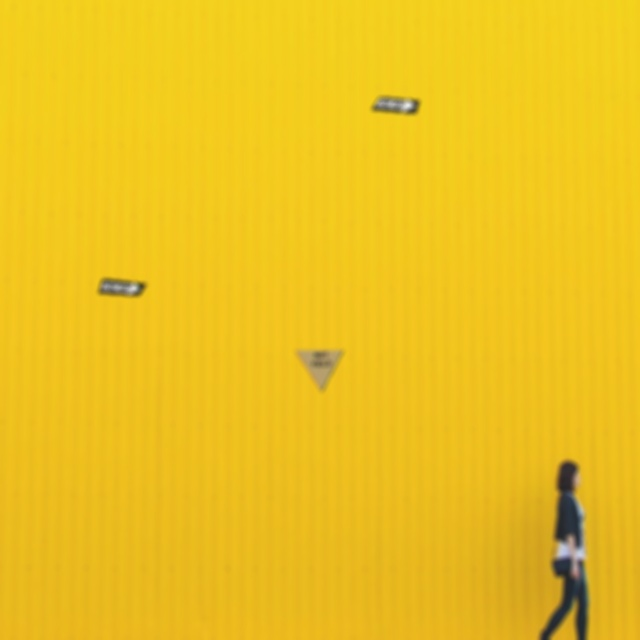NOT_YIELD: (294, 349, 344, 392)
ONE_WAY_ right: (97, 278, 147, 296), (370, 96, 420, 114)
